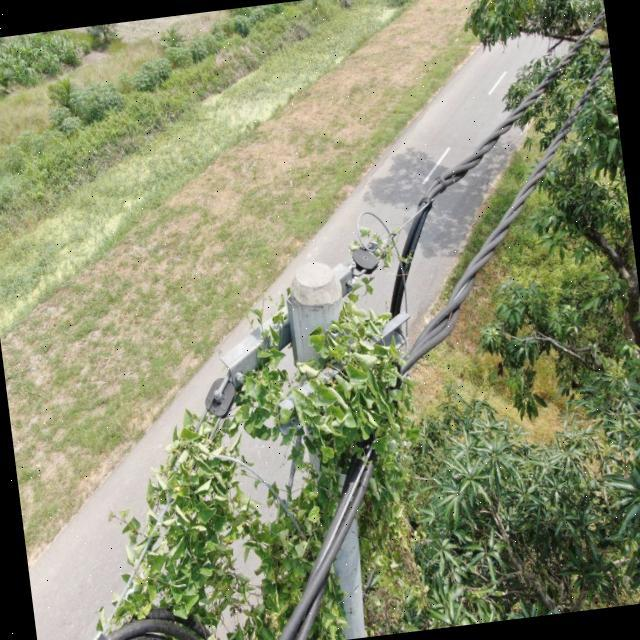critical vegetation: (47, 210, 458, 640)
